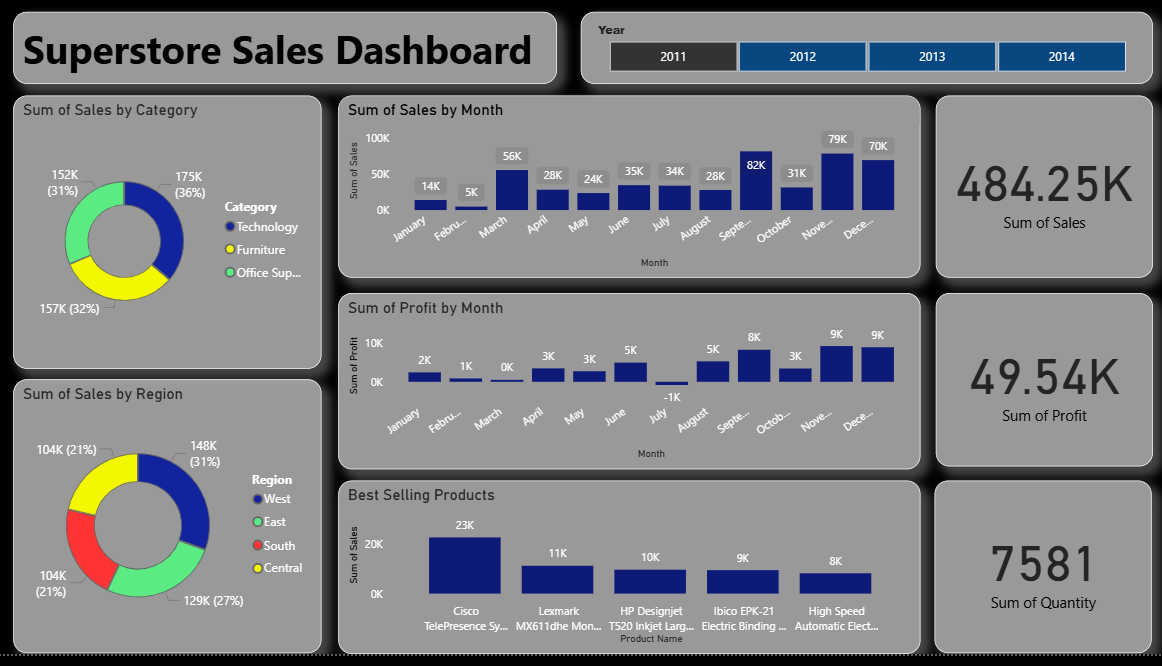

The dashboard page shown, as its layout file describes it:
{"tool":"powerbi","page":{"name":"Page 1","canvas":[1280,720],"ordinal":0},"visuals":[{"type":"textbox","box":[17.4,15.1,596.5,79.1],"z":0},{"type":"columnChart","fields":{"Y":["Sum(Orders.Profit)"],"Category":["Orders.Order Date.Variation.Date Hierarchy.Month"]},"box":[374.6,323.8,639.5,193.5],"z":1000},{"type":"donutChart","fields":{"Y":["Sum(Orders.Sales)"],"Category":["Orders.Region"]},"box":[17.4,418.6,338.4,301.2],"z":2000},{"type":"donutChart","fields":{"Y":["Sum(Orders.Sales)"],"Category":["Orders.Category"]},"box":[17.4,107,338.4,300],"z":3000},{"type":"columnChart","fields":{"Y":["Sum(Orders.Sales)"],"Category":["Orders.Order Date.Variation.Date Hierarchy.Month"]},"box":[374.6,107,639.5,200.3],"z":4000},{"type":"columnChart","title":"Best Selling Products","fields":{"Y":["Sum(Orders.Sales)"],"Category":["Orders.Product Name"]},"box":[374.6,529.7,639.5,190.7],"z":5000},{"type":"card","fields":{"Values":["Sum(Orders.Sales)"]},"box":[1030.2,107,238.4,200],"z":6000},{"type":"card","fields":{"Values":["Sum(Orders.Profit)"]},"box":[1030.2,323.3,238.4,190.7],"z":7000},{"type":"card","fields":{"Values":["Sum(Orders.Quantity)"]},"box":[1029.1,530.2,238.4,189.5],"z":8000},{"type":"slicer","fields":{"Values":["Orders.Order Date.Variation.Date Hierarchy.Year"]},"box":[640.7,15.1,627.9,79.1],"z":9000}]}

Visuals, with their boxes in screenshot pixels (x1, y1, x2, y2), scaled from the page's 1280x720 canvas onto the 1162x666 screenshot:
textbox: x1=16 y1=14 x2=557 y2=87
columnChart - Sum(Orders.Profit) x Orders.Order Date.Variation.Date Hierarchy.Month: x1=340 y1=300 x2=921 y2=479
donutChart - Sum(Orders.Sales) x Orders.Region: x1=16 y1=387 x2=323 y2=665
donutChart - Sum(Orders.Sales) x Orders.Category: x1=16 y1=99 x2=323 y2=376
columnChart - Sum(Orders.Sales) x Orders.Order Date.Variation.Date Hierarchy.Month: x1=340 y1=99 x2=921 y2=284
"Best Selling Products" columnChart: x1=340 y1=490 x2=921 y2=665
card - Sum(Orders.Sales): x1=935 y1=99 x2=1152 y2=284
card - Sum(Orders.Profit): x1=935 y1=299 x2=1152 y2=475
card - Sum(Orders.Quantity): x1=934 y1=490 x2=1151 y2=665
slicer - Orders.Order Date.Variation.Date Hierarchy.Year: x1=582 y1=14 x2=1152 y2=87
